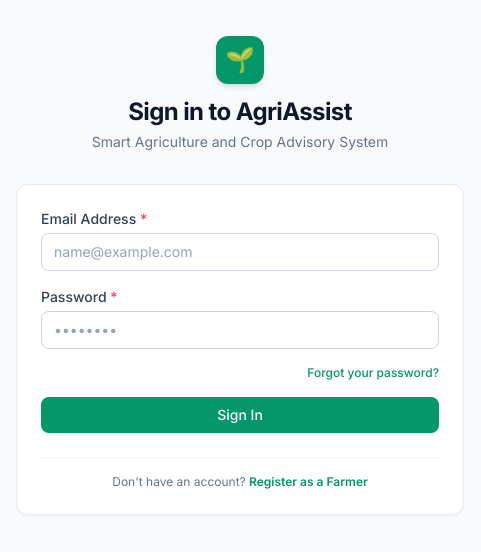
Test: Frontend Auth & Profile Component Tests › Auth.Login.Validation: displays validation errors for missing email and password
Click the button "Sign In" at x=240, y=414, box left=41, top=396, right=439, bottom=432
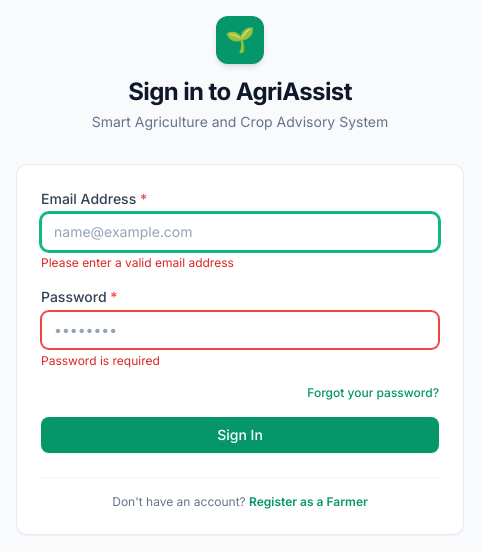
Expected: the text "Please enter a valid email address" is shown, left=41, top=254, right=234, bottom=270
Expected: the text "Password is required" is shown, left=41, top=352, right=160, bottom=368
